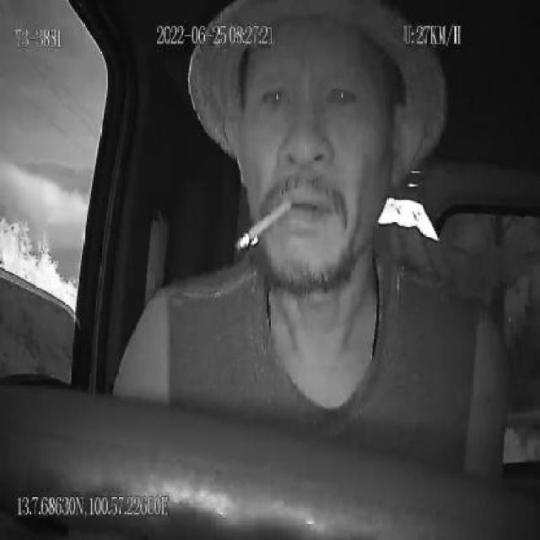smoking: (236, 200, 291, 253)
